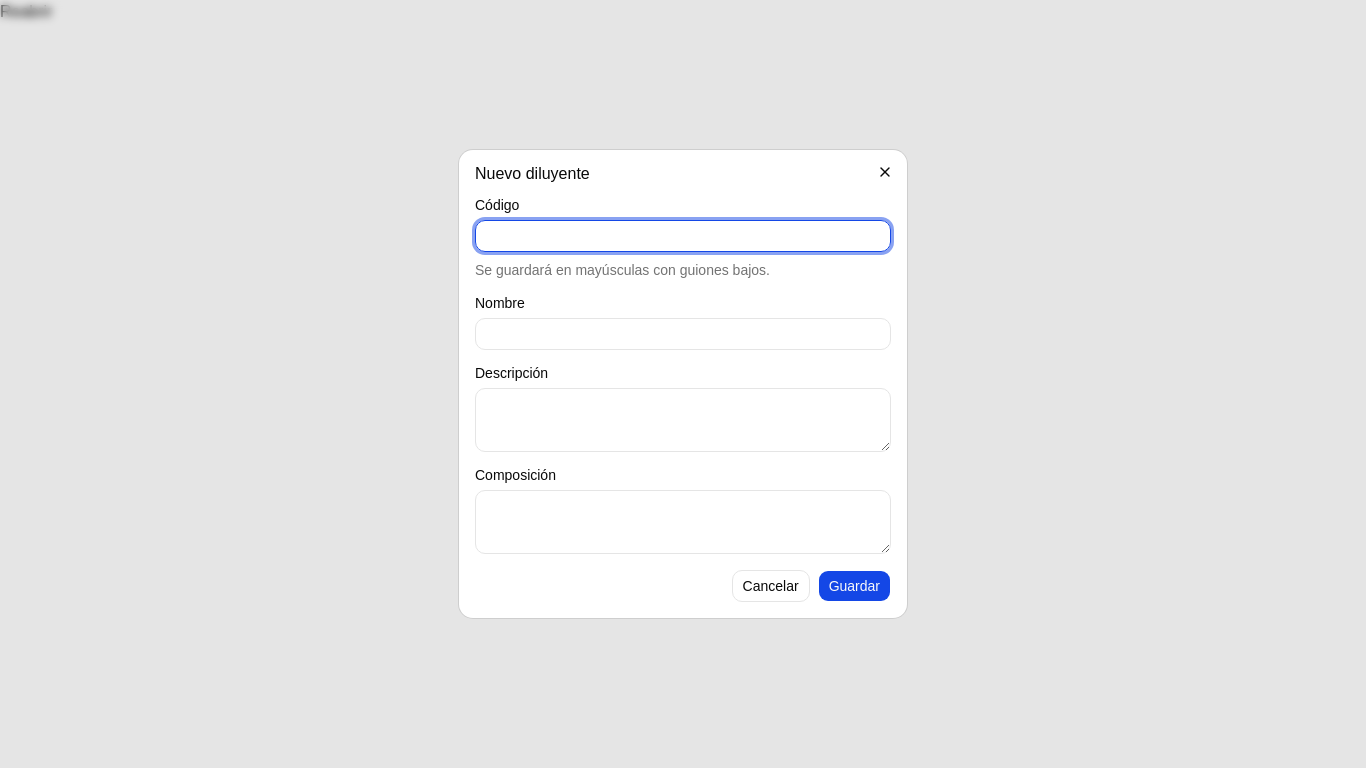
Test case: DiluentFormDialog — crear › un 409 DILUENT_001_CODE_EXISTS pinta el error bajo code, con el texto que menciona las bajas
The image size is (1366, 768).
Type "agua" into the field labelled "Código".
click(683, 236); type("agua")  # box top-left (475, 220), bottom-right (891, 252)
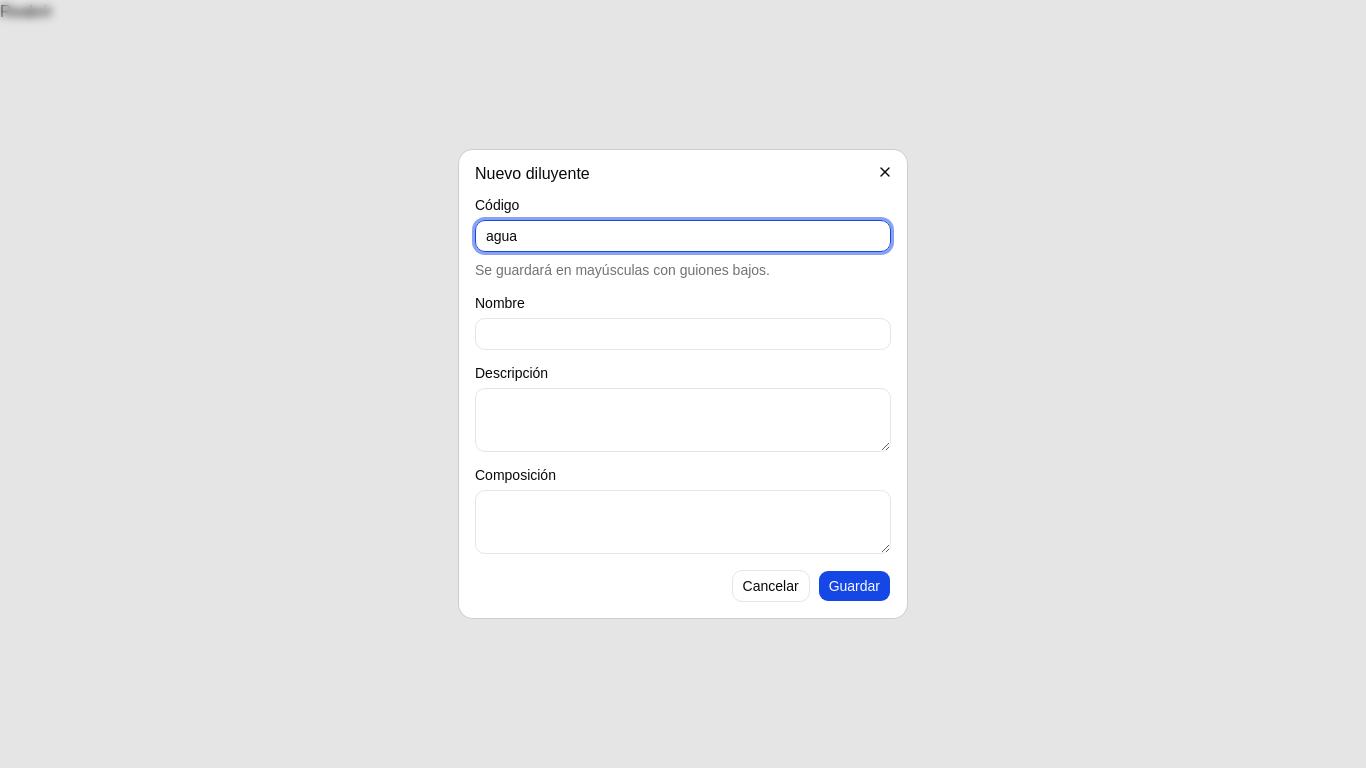
Type "Agua" into the field labelled "Nombre".
click(683, 334); type("Agua")  # box top-left (475, 318), bottom-right (891, 350)
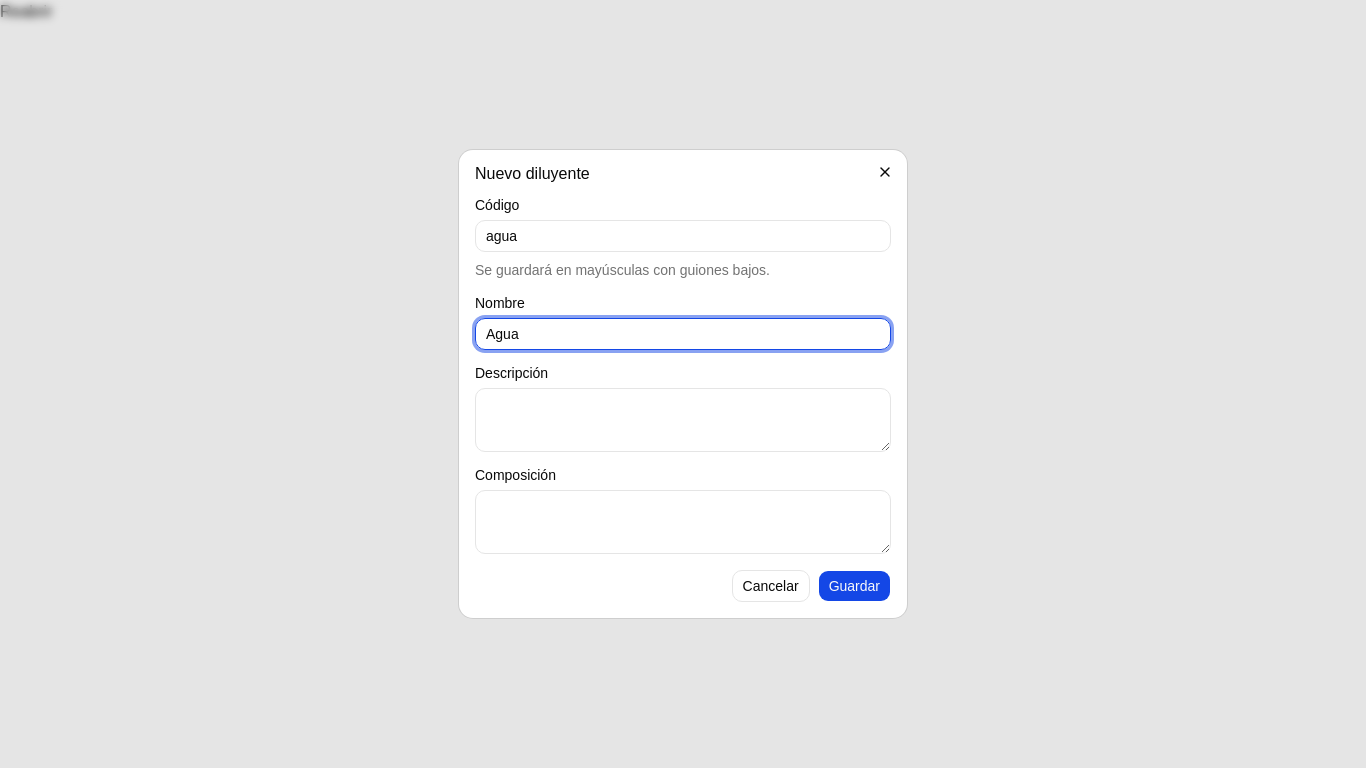
Click the button "Guardar".
click(854, 586)  # box top-left (818, 570), bottom-right (891, 602)
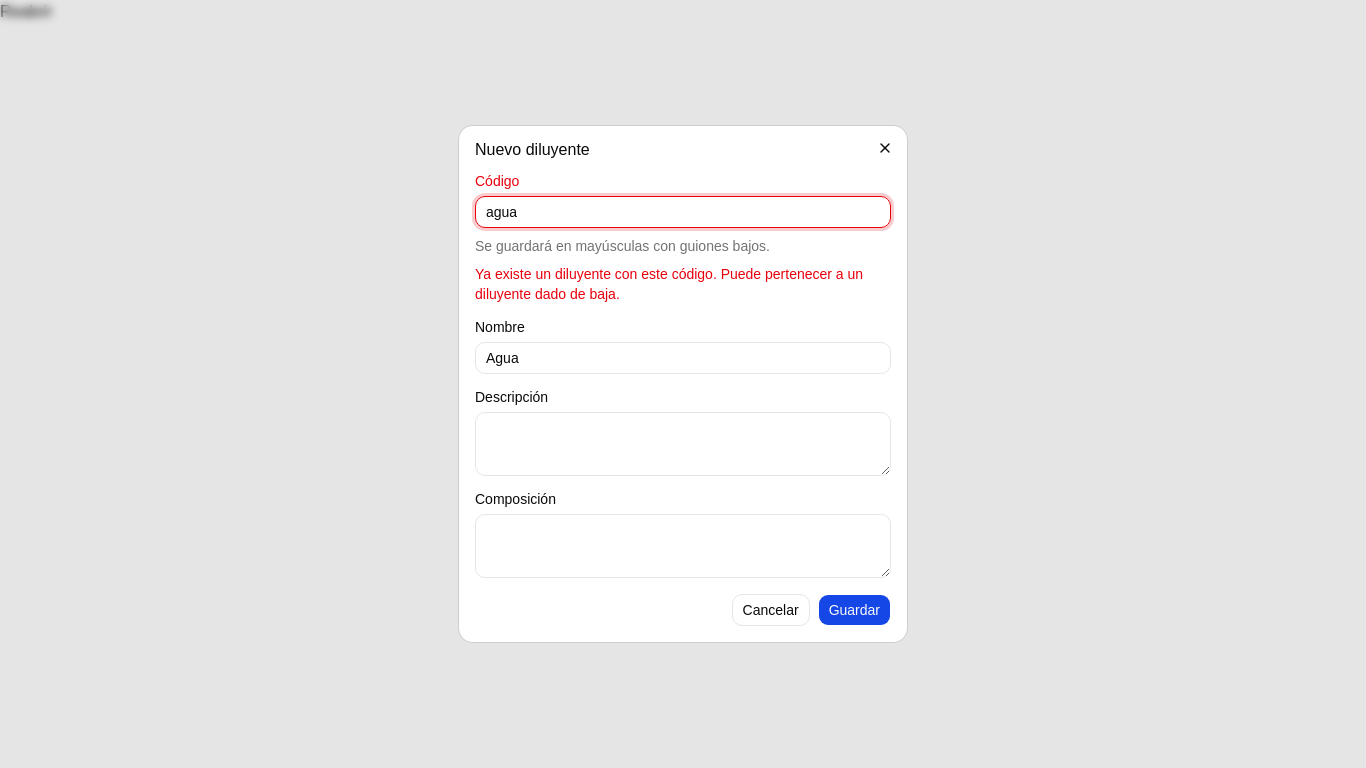
Now the text "Ya existe un diluyente con este código. Puede pertenecer a un diluyente dado de baja." is shown, box top-left (475, 266), bottom-right (863, 302)
